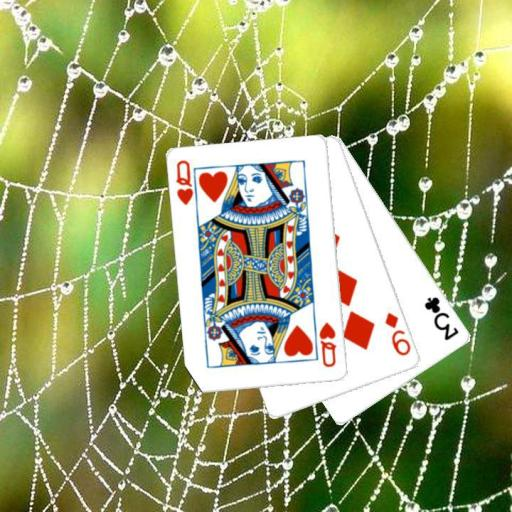3C: (421, 294, 461, 343)
9D: (382, 309, 412, 358)
QH: (173, 157, 200, 212), (317, 319, 339, 369)
